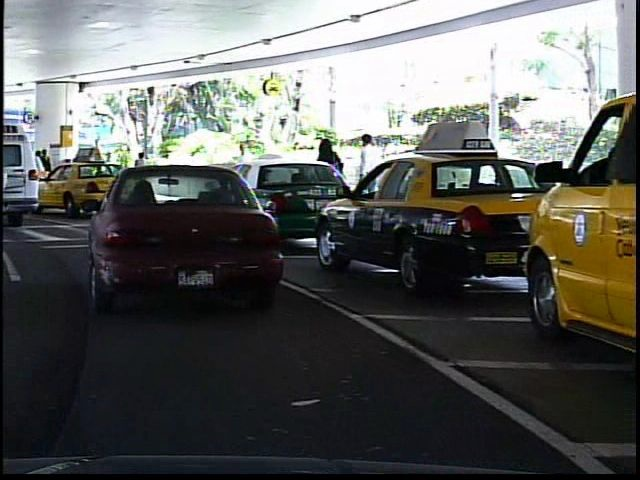person: (308, 133, 343, 230), (350, 129, 382, 225), (228, 137, 256, 206), (125, 146, 151, 198), (33, 147, 44, 172)
